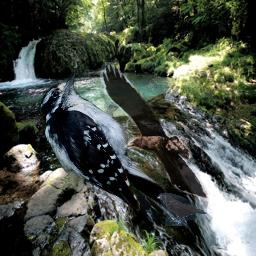Crow: (100, 62, 209, 201), (157, 193, 207, 226)
Woodpecker: (37, 71, 181, 219)
